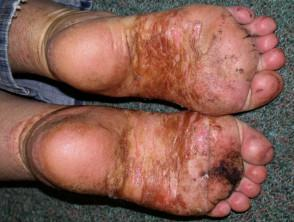Eczema: (145, 15, 169, 50), (103, 167, 130, 194), (128, 47, 154, 75), (186, 39, 210, 67), (108, 72, 132, 97), (175, 143, 198, 168), (168, 20, 186, 51), (163, 148, 186, 171), (150, 50, 174, 71), (131, 6, 152, 30), (170, 193, 192, 215), (66, 112, 87, 135), (174, 121, 195, 144), (183, 83, 203, 107), (152, 193, 176, 213), (173, 169, 193, 193), (119, 30, 136, 58), (129, 23, 145, 52), (108, 155, 130, 176), (214, 7, 234, 30), (230, 57, 249, 81), (128, 162, 147, 186), (191, 17, 209, 42), (108, 128, 131, 147), (115, 114, 133, 138), (221, 132, 242, 152), (159, 70, 178, 92), (144, 73, 161, 97), (128, 78, 148, 98), (152, 82, 170, 104), (155, 172, 173, 194), (196, 168, 214, 189), (225, 167, 243, 188), (110, 143, 133, 159), (134, 189, 153, 208), (162, 129, 181, 148), (221, 78, 238, 99), (137, 110, 166, 122), (150, 35, 168, 54), (126, 65, 143, 85), (181, 56, 198, 76), (208, 29, 225, 49), (244, 32, 261, 52), (203, 89, 220, 109), (97, 116, 114, 136), (174, 111, 194, 128), (27, 110, 43, 131), (168, 85, 186, 103), (130, 109, 148, 127), (161, 114, 179, 132), (204, 116, 223, 133), (222, 149, 239, 168), (153, 160, 169, 180), (213, 159, 229, 179), (194, 198, 209, 219), (190, 111, 208, 128), (254, 147, 271, 164), (93, 70, 108, 89), (171, 53, 186, 71), (76, 181, 95, 195), (196, 146, 213, 161), (216, 180, 231, 196), (131, 141, 145, 158), (155, 126, 169, 142), (164, 7, 181, 18), (250, 85, 263, 98)
